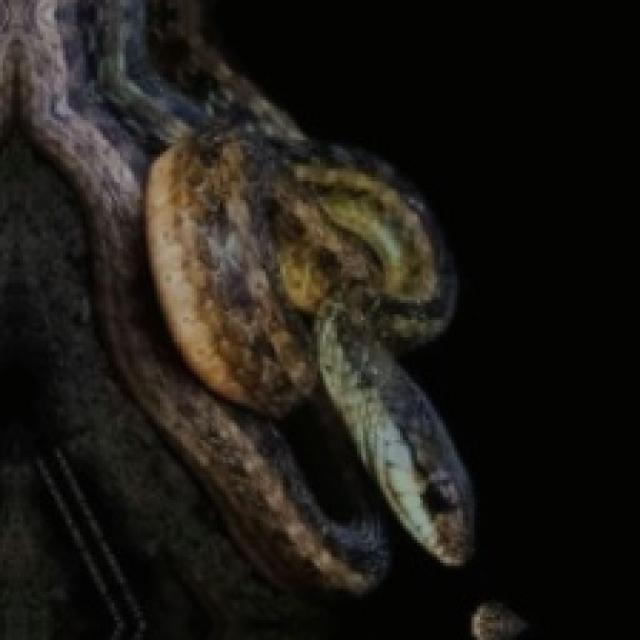boies keelback: (0, 0, 471, 591)
